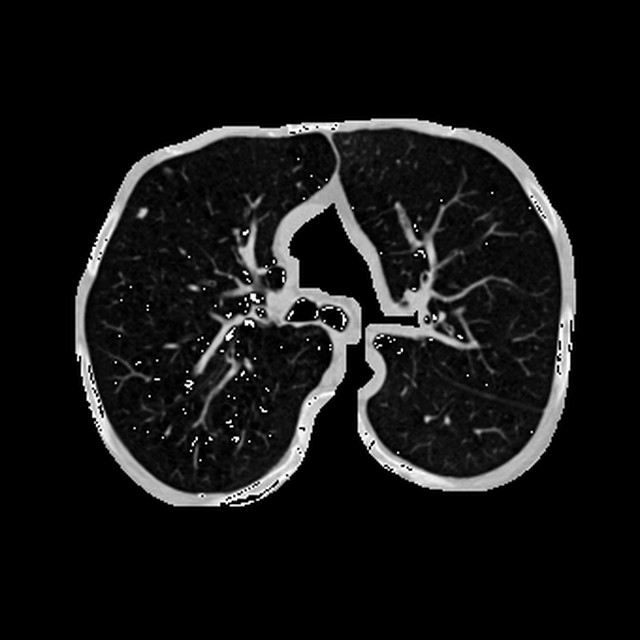PN: (136, 207, 147, 218)
